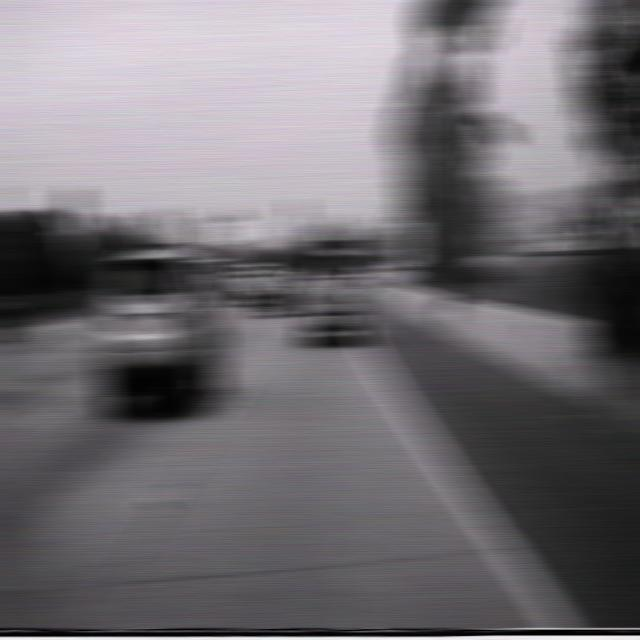speedLimit65: (394, 220, 423, 252)
